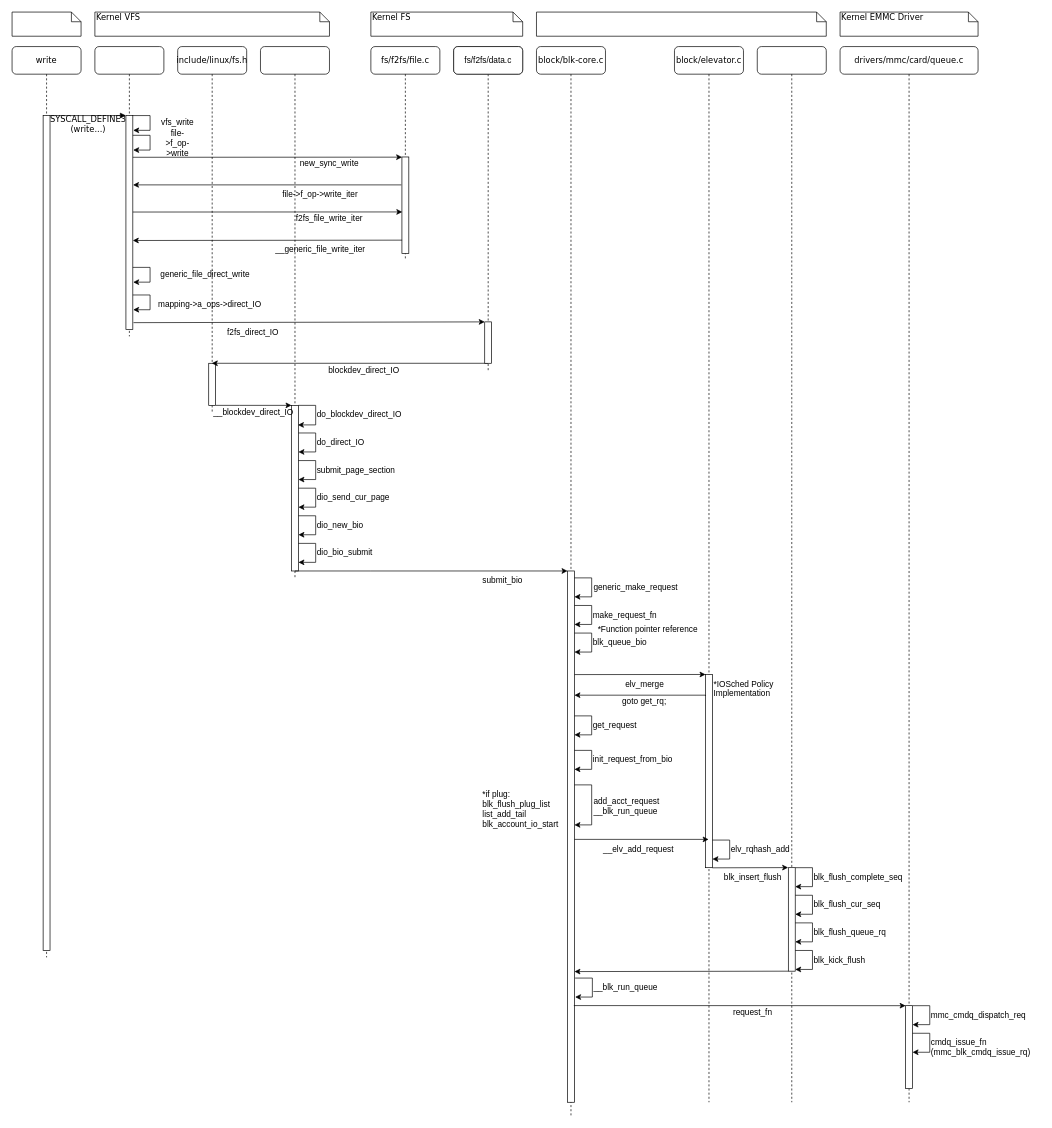
This 1052x1128 diagram has some shape labels left out. The box of each missing label's shape, as (x1, y1, x2, y2) in pixels:
Application: (11, 11, 81, 36)
block/blk-flush.c: (757, 46, 826, 1102)
fs/direct-io.c: (260, 46, 329, 578)
fs/read_write.c: (94, 46, 164, 336)
Kernel Generic Block Layer: (536, 11, 826, 36)
